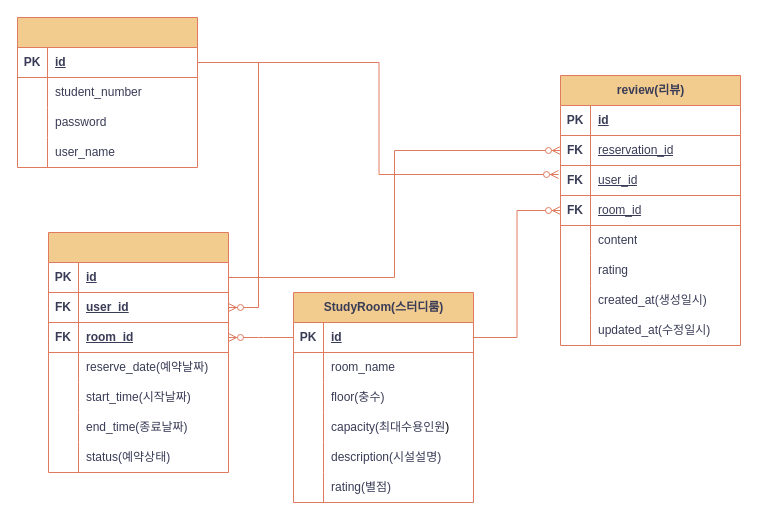
The diagram is 758 pixels wide and 520 high, and some of its shapes have lost their labels. Here are the shapes that lost their labels. From the top down, the box of each, then its label:
(16, 16, 198, 168): user(사용자)
(48, 232, 228, 472): reservation(예약)
